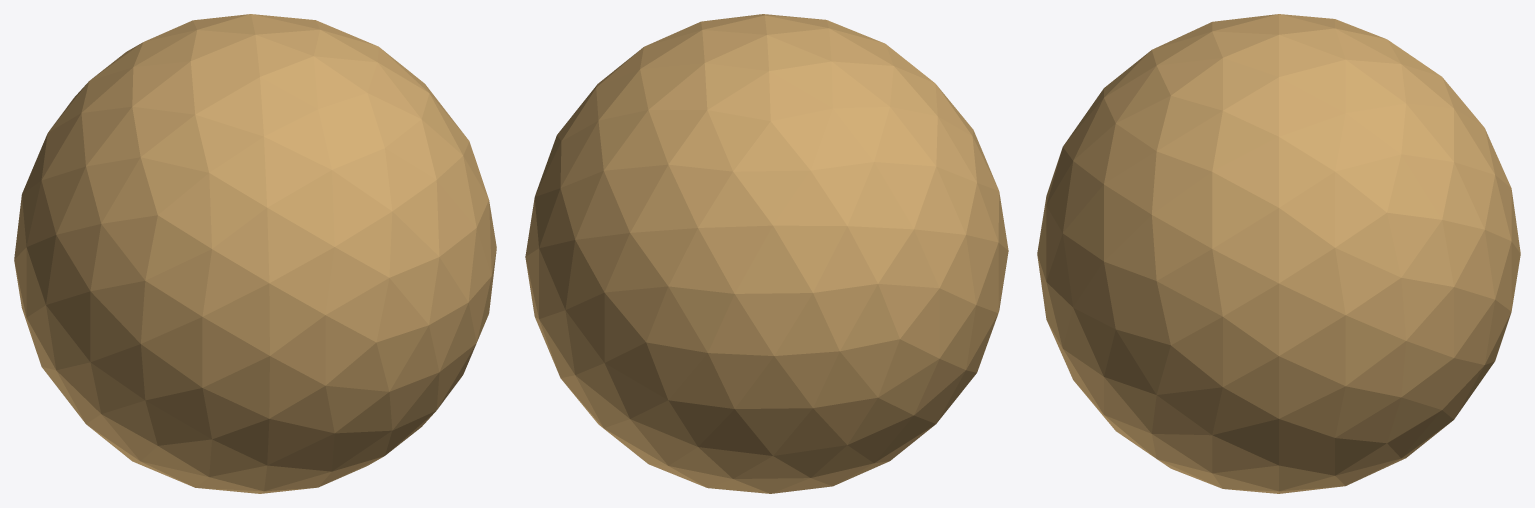
Rendered from copperii.fbx.
The picture shows the model from 3 angles, left to right: view 1: azimuth 30°, elevation 25°; view 2: azimuth 150°, elevation 25°; view 3: azimuth 270°, elevation 25°; orthographic projection.
Visible parts, largest first — view 1: Shape_IndexedFaceSet; view 2: Shape_IndexedFaceSet; view 3: Shape_IndexedFaceSet.
Part boxes in pixels (box(x1,y1,x2,y2)): Shape_IndexedFaceSet: box(14, 14, 496, 493); Shape_IndexedFaceSet: box(525, 14, 1008, 493); Shape_IndexedFaceSet: box(1037, 14, 1520, 493).
Size of the model in its own units: 920 by 920 by 920.
